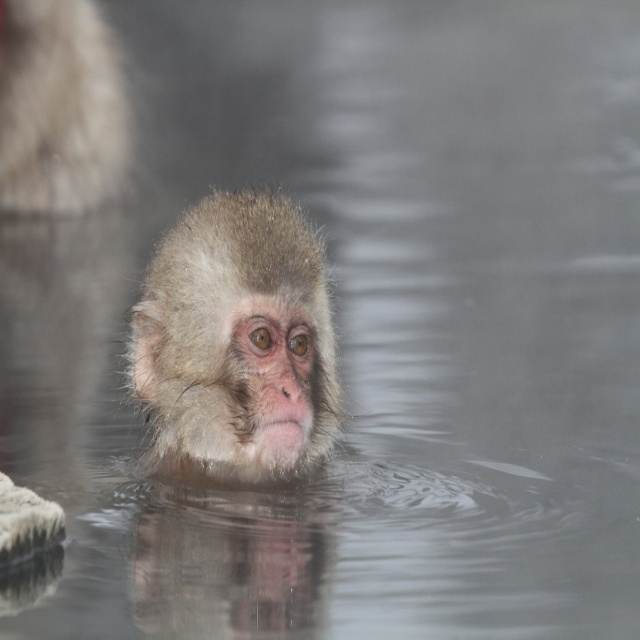Monkey: (124, 183, 349, 512)
